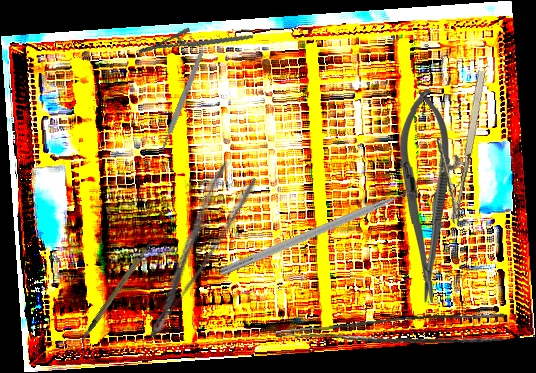Chopper: (217, 182, 431, 288)
Dressing Forceps: (121, 159, 261, 342)
Needle Holder: (398, 87, 453, 304), (420, 64, 491, 225), (136, 12, 254, 77)
Scalpel Handle: (65, 240, 164, 344), (159, 48, 206, 152)
Tissue Forceps: (275, 307, 508, 364)
